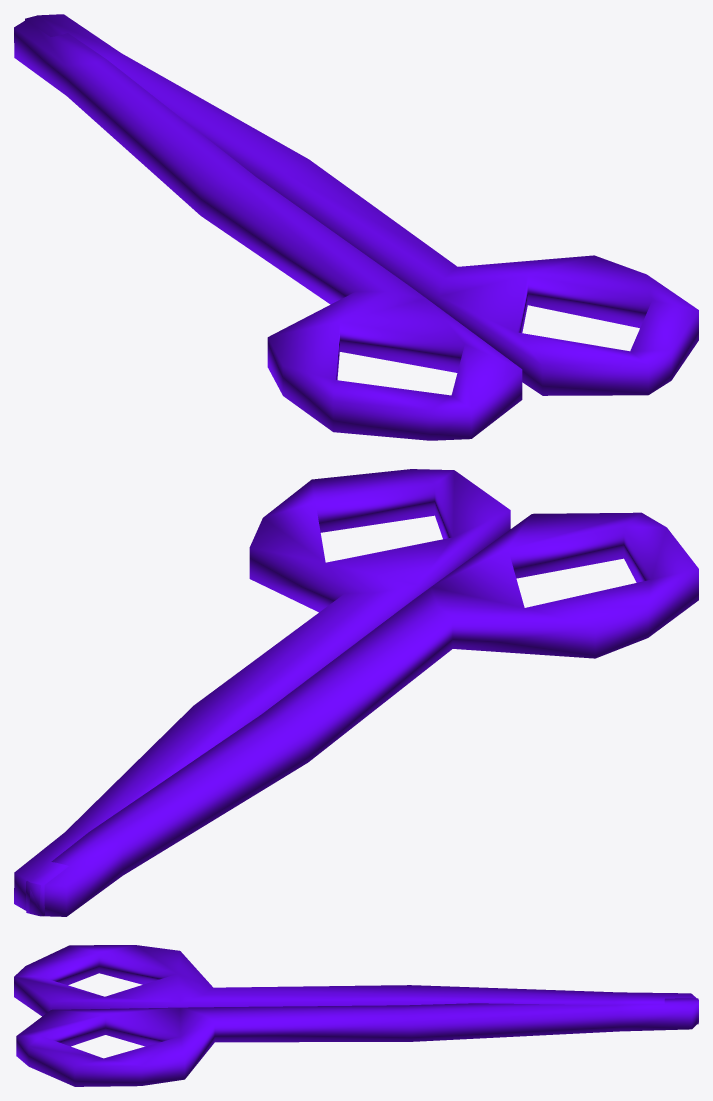
The model's file is hospital_staff_surgicalTool_scissors_1_meshCollider.fbx.
3 renders of one model, top to bottom at view 1: azimuth 30°, elevation 25°; view 2: azimuth 150°, elevation 25°; view 3: azimuth 270°, elevation 25°, orthographic. The views are drawn at different scales.
Parts seen in each view (by area): view 1: hospital_staff_surgicalTool_scissors_1_meshCollider, hospital_staff_surgicalTool_scissors_1_part2_meshCollider; view 2: hospital_staff_surgicalTool_scissors_1_meshCollider, hospital_staff_surgicalTool_scissors_1_part2_meshCollider; view 3: hospital_staff_surgicalTool_scissors_1_part2_meshCollider, hospital_staff_surgicalTool_scissors_1_meshCollider.
Boxes of the visible parts, x1,y1,x2,y2 form: hospital_staff_surgicalTool_scissors_1_meshCollider: (14,20,522,440); hospital_staff_surgicalTool_scissors_1_part2_meshCollider: (25,14,698,395); hospital_staff_surgicalTool_scissors_1_meshCollider: (26,512,698,916); hospital_staff_surgicalTool_scissors_1_part2_meshCollider: (14,469,510,916); hospital_staff_surgicalTool_scissors_1_part2_meshCollider: (16,998,698,1086); hospital_staff_surgicalTool_scissors_1_meshCollider: (14,945,698,1024).
Size of the model in its own units: 5.12 by 0.416 by 12.27.
